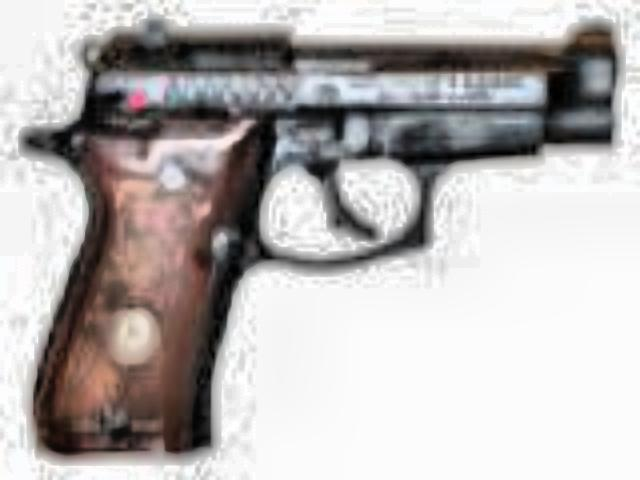pistol: (8, 4, 612, 460)
